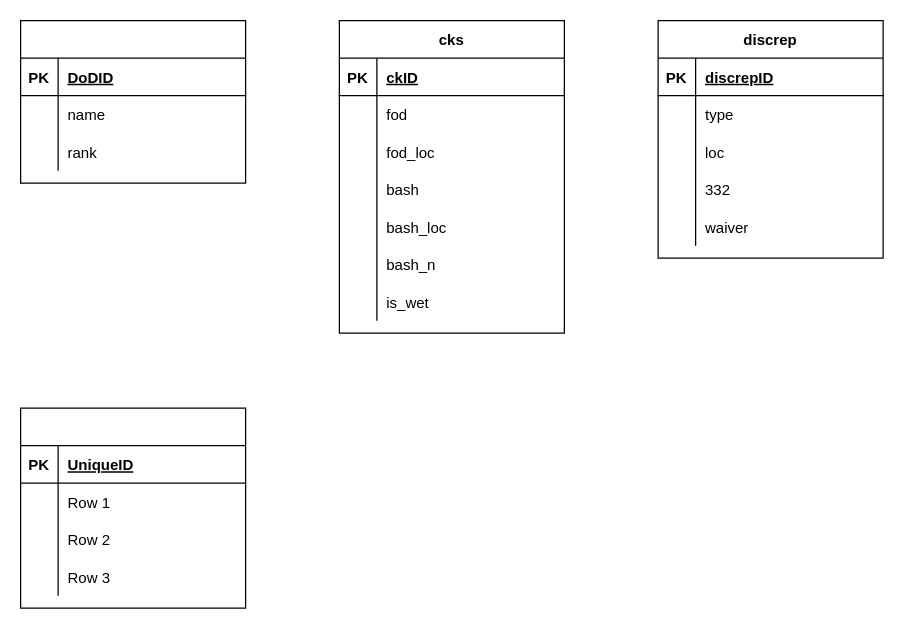
This 904x629 diagram has some shape labels left out. Here are the shapes that lost their labels. From the top down, the box of each, then its label:
(19, 19, 246, 183): pers
(19, 407, 246, 608): Table
